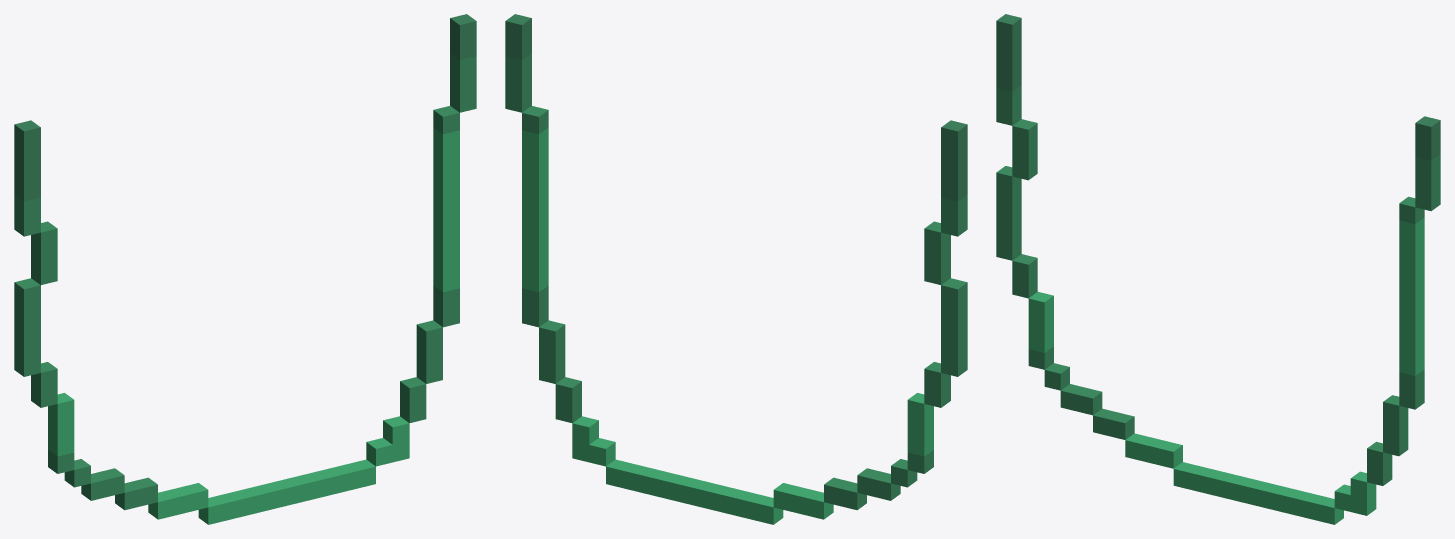
The model's file is vine_U2.fbx.
3 views of the same model, side by side, from view 1: azimuth 30°, elevation 25°; view 2: azimuth 150°, elevation 25°; view 3: azimuth 330°, elevation 25° (orthographic). The views are drawn at different scales.
Parts seen in each view (by area): view 1: vine_U2; view 2: vine_U2; view 3: vine_U2.
Part boxes in pixels (<box>): vine_U2: <box>14,14,476,524</box>; vine_U2: <box>505,14,967,524</box>; vine_U2: <box>996,14,1440,524</box>.
Size of the model in its own units: 27 by 25 by 1.
1 material, 1 textured.
